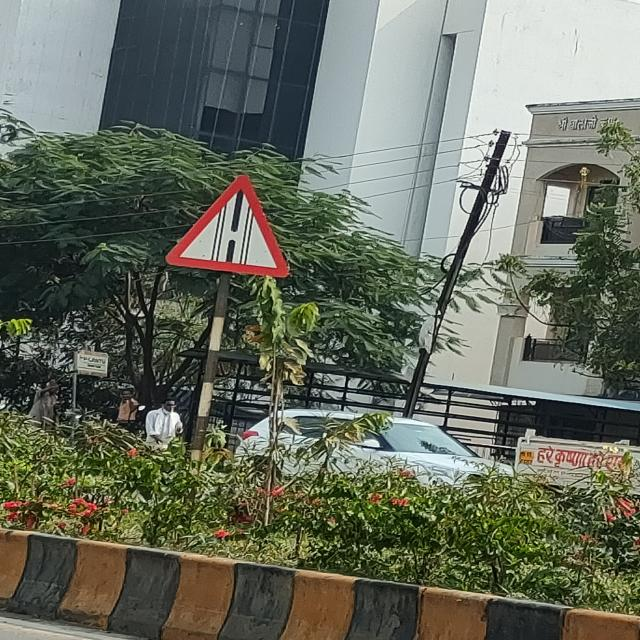GAP_IN_MEDIAN: (163, 175, 294, 280)
